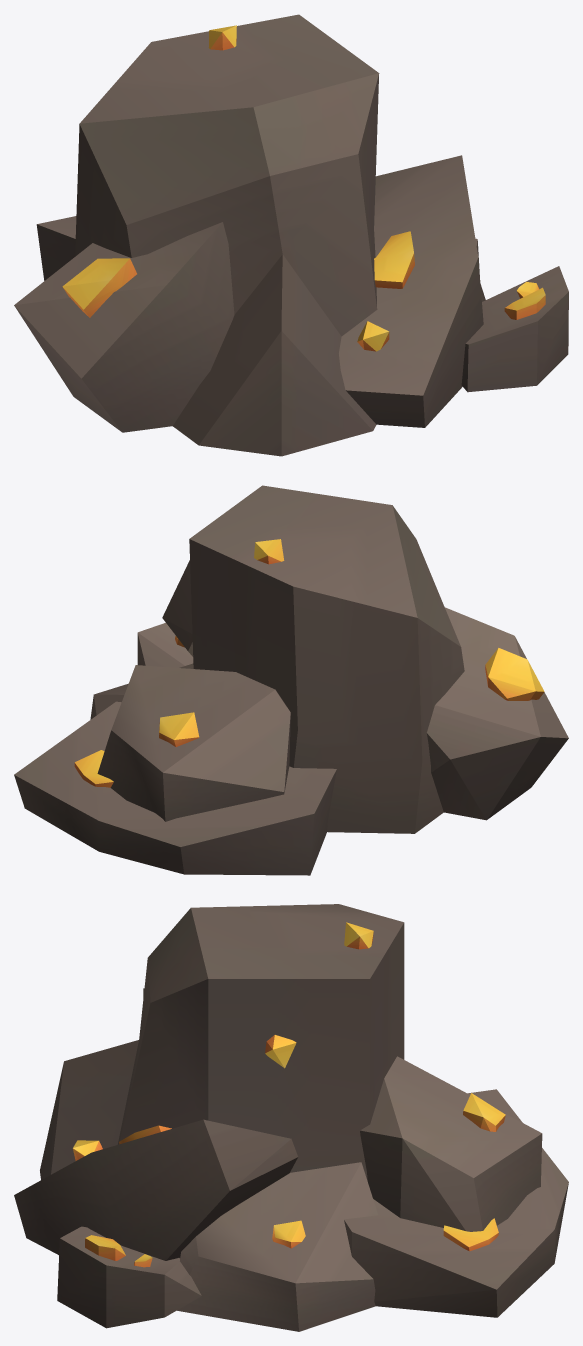
File: rocks_gold.glb
3 renders of one model, top to bottom at view 1: azimuth 30°, elevation 25°; view 2: azimuth 150°, elevation 25°; view 3: azimuth 270°, elevation 25°, orthographic. The views are drawn at different scales.
Parts seen in each view (by area): view 1: rocks_gold; view 2: rocks_gold; view 3: rocks_gold.
Part boxes in pixels (box(x1,y1,x2,y2)): rocks_gold: box(14, 14, 568, 456); rocks_gold: box(14, 485, 568, 875); rocks_gold: box(14, 904, 568, 1331).
Bounding box in the file's own units: 2.84 × 1.6 × 2.74.
1 material, 1 textured.
